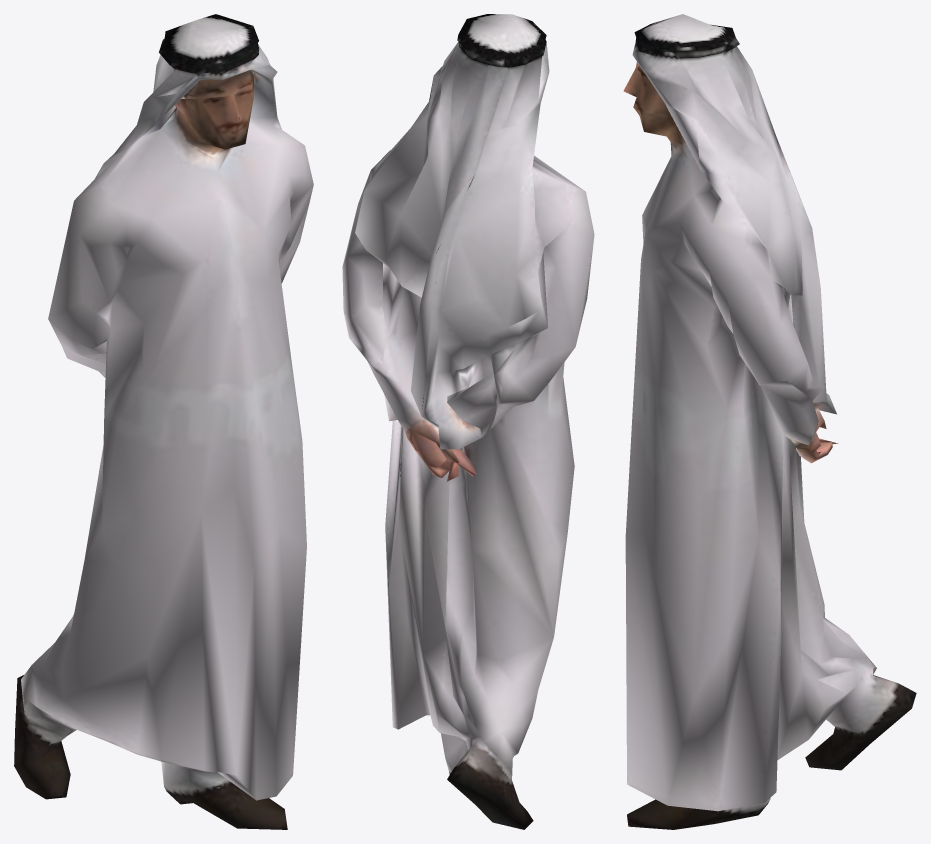
Rendered from gcc-1.glb.
The picture shows the model from 3 angles, left to right: view 1: azimuth 30°, elevation 25°; view 2: azimuth 150°, elevation 25°; view 3: azimuth 270°, elevation 25°; orthographic projection. The views are drawn at different scales.
Visible parts, largest first — view 1: Mesh_0; view 2: Mesh_0; view 3: Mesh_0.
Part boxes in pixels (box(x1,y1,x2,y2)): Mesh_0: box(14, 14, 313, 829); Mesh_0: box(342, 14, 594, 829); Mesh_0: box(623, 14, 916, 829).
Bounding box in the file's own units: 0.6246 × 1.9 × 0.6445.
1 material, 1 textured.
